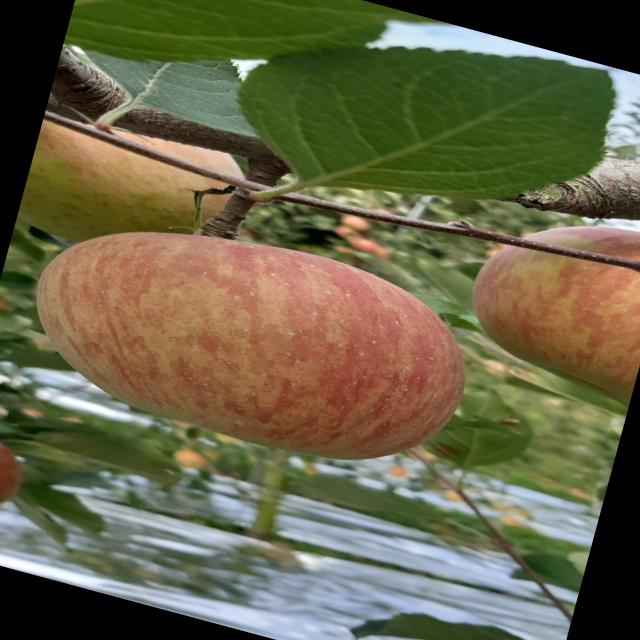fresh: (1, 178, 497, 503)
